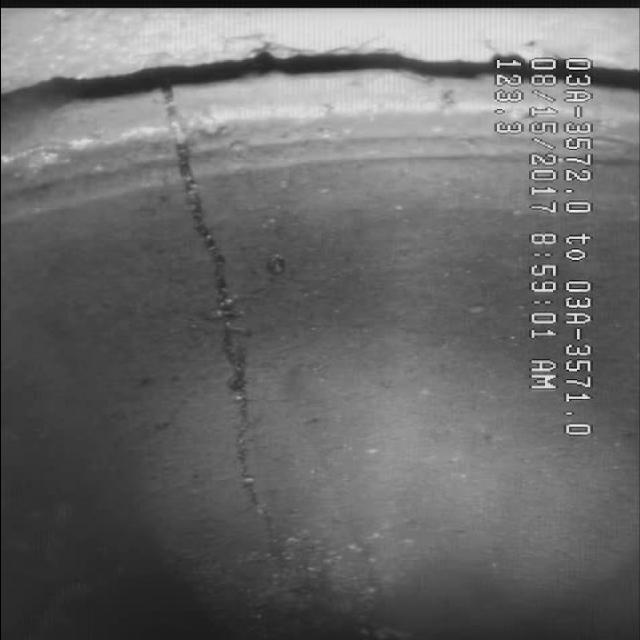Crack: (140, 92, 316, 582)
